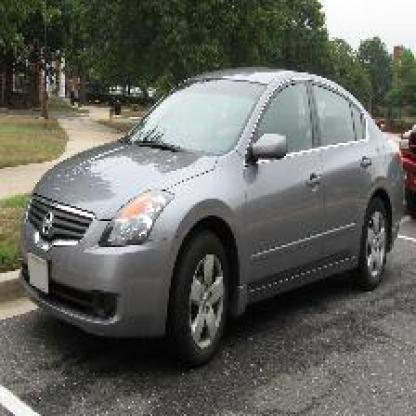not_emergency: (19, 58, 414, 354)
